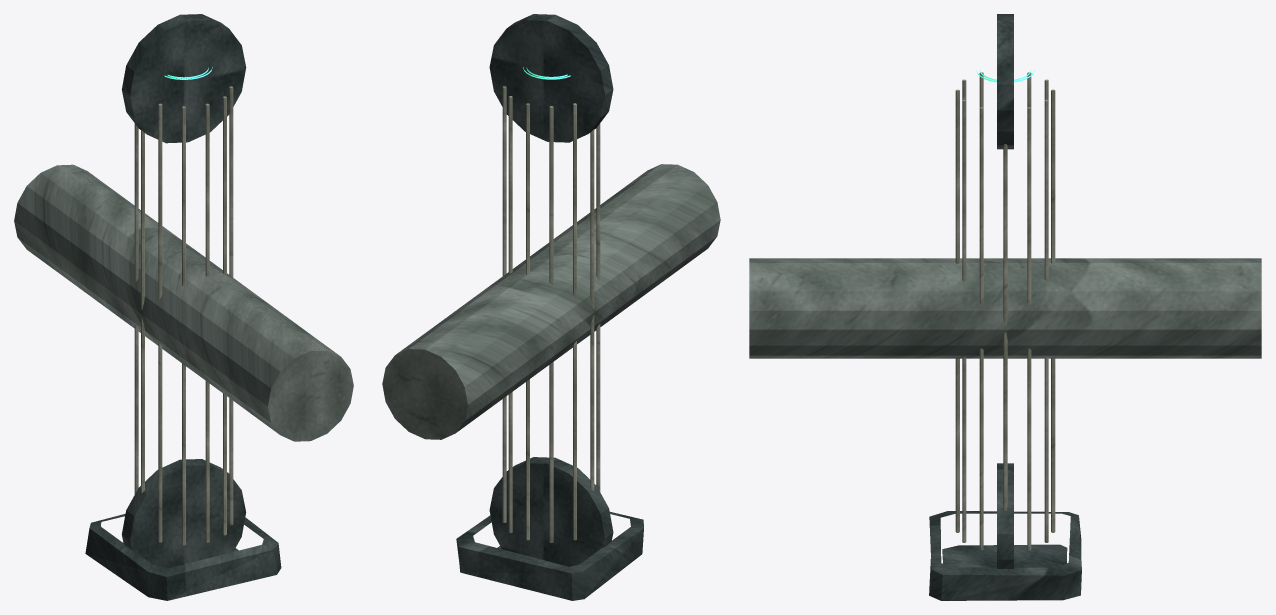
File: 0283_fluted_column_08.glb
3 views of the same model, side by side, from view 1: azimuth 30°, elevation 25°; view 2: azimuth 150°, elevation 25°; view 3: azimuth 270°, elevation 25° (orthographic).
Parts seen in each view (by area): view 1: stone, stone_dark, stone_light; view 2: stone, stone_dark, stone_light; view 3: stone, stone_light, stone_dark.
Part boxes in pixels (x1,y1,x2,y2): stone: (14,164,353,441); stone_dark: (85,14,281,600); stone_light: (134,86,233,545); stone: (382,164,720,439); stone_dark: (456,14,643,600); stone_light: (502,86,600,542); stone: (749,258,1261,358); stone_light: (955,72,1055,550); stone_dark: (929,14,1081,600).
Bounding box in the file's own units: 1.28 × 5.26 × 4.27.
Materials: 4 (4 with a texture image).
